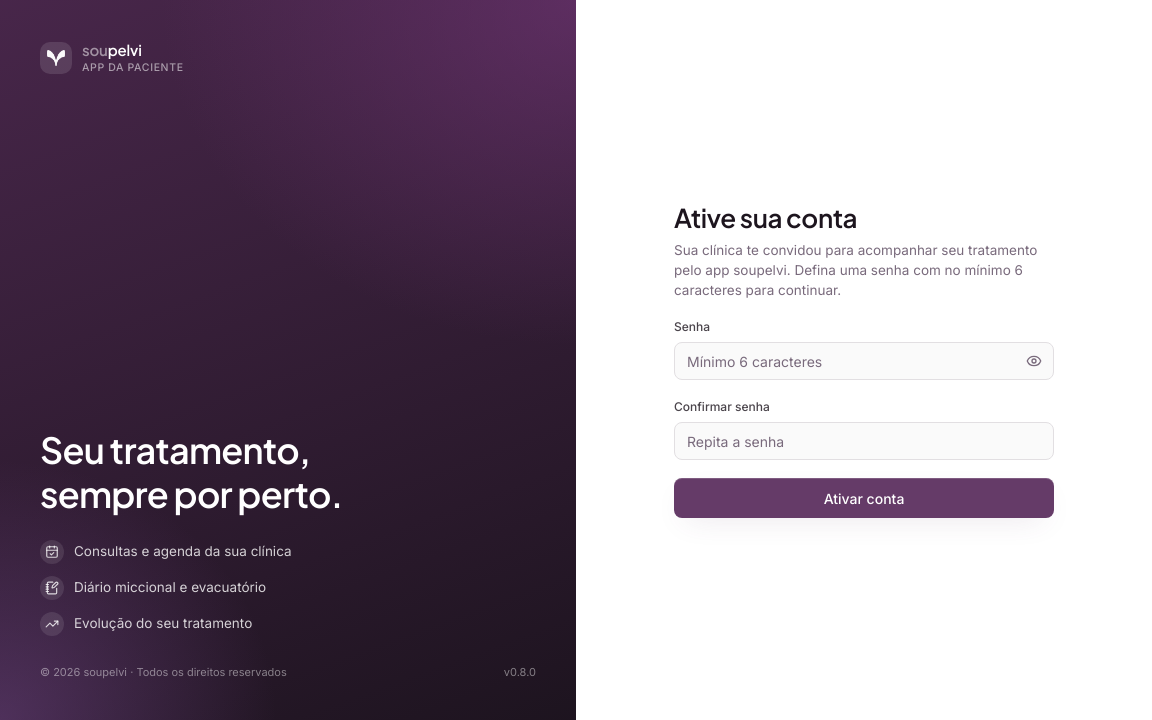
Test: ActivatePatientAccount page › exibe erro se as senhas não coincidem
The width and height of the screenshot is (1152, 720).
Type "senha123" into the password field labelled "Senha".
click(864, 361); type("senha123")  # box [674,342,1054,380]
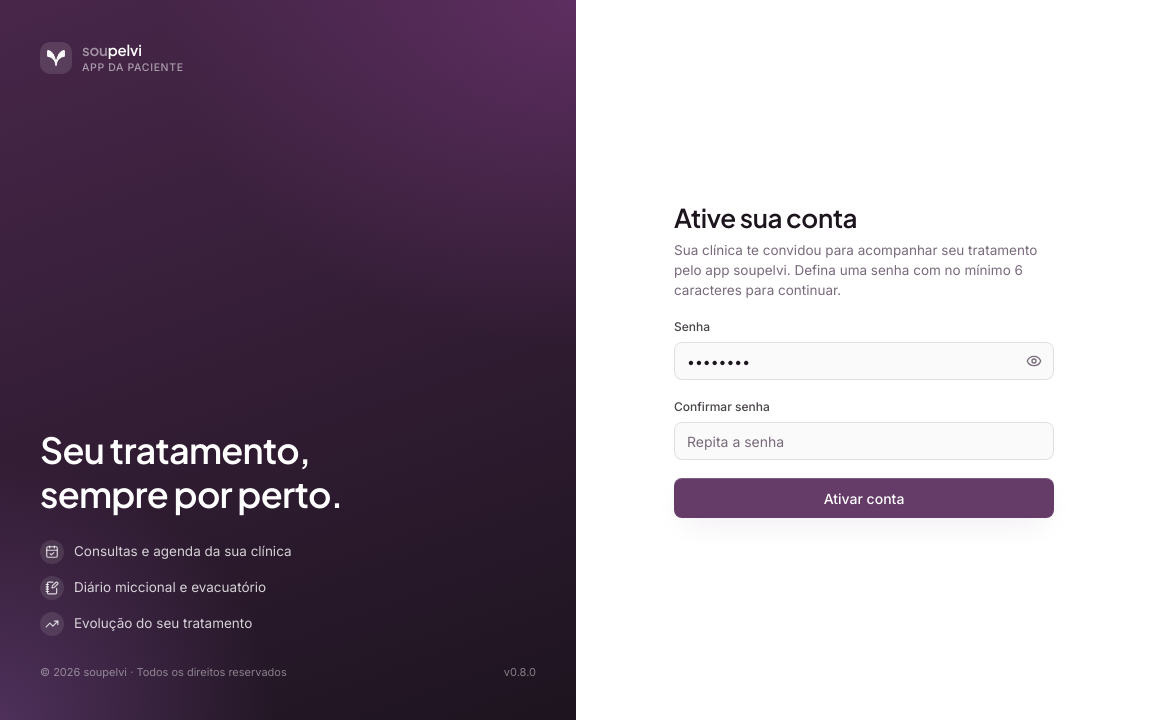
Type "diferente" into the password field labelled "Confirmar senha".
click(864, 441); type("diferente")  # box [674,422,1054,460]
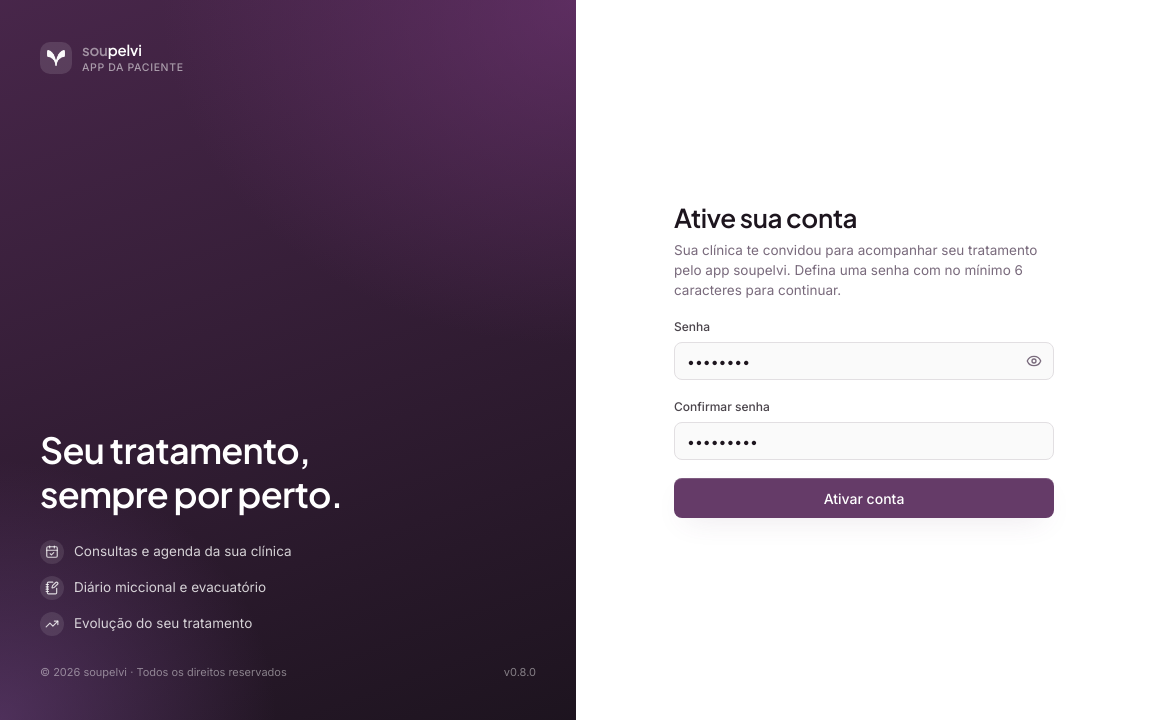
Click the button "Ativar conta".
click(864, 498)  # box [674,478,1054,518]
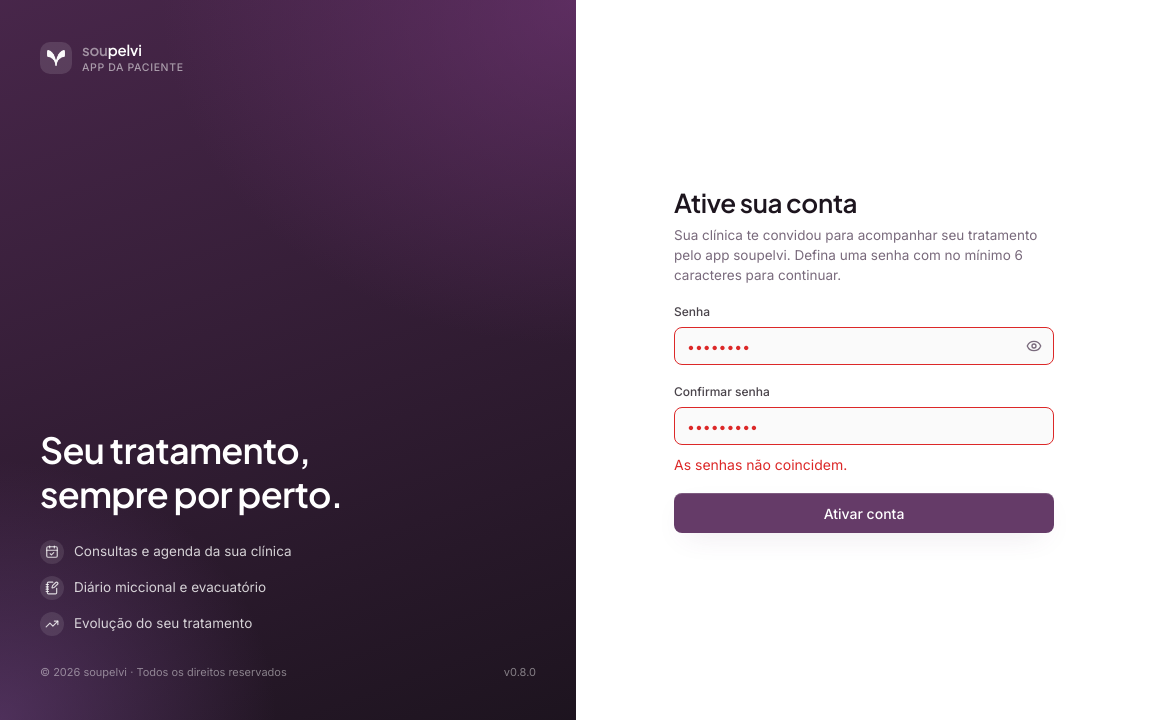
Expected: the message shows "senhas não coincidem", [674,456,847,473]
